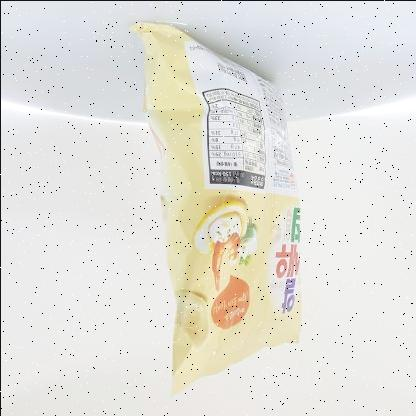Others: (118, 13, 314, 402)
